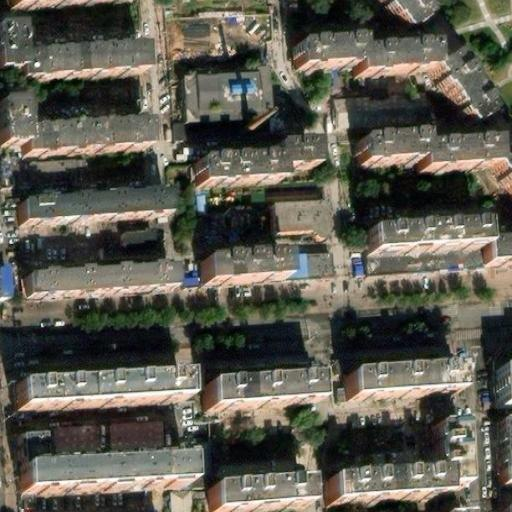building: (18, 466, 185, 511), (13, 379, 180, 414), (21, 258, 167, 294), (428, 59, 491, 134), (9, 185, 163, 215), (327, 470, 437, 508), (174, 58, 264, 104), (365, 228, 483, 262), (337, 372, 451, 405), (331, 94, 431, 131), (205, 384, 308, 415), (207, 484, 304, 512), (416, 143, 490, 179), (199, 159, 278, 191), (354, 46, 424, 80), (199, 259, 278, 289), (296, 39, 356, 74), (267, 189, 322, 227), (358, 137, 417, 171), (104, 419, 162, 452), (47, 423, 103, 457), (15, 0, 135, 14), (382, 0, 427, 37), (433, 433, 459, 494), (280, 238, 324, 267), (276, 144, 315, 175), (482, 239, 512, 270), (9, 442, 32, 480), (498, 422, 512, 484), (496, 374, 512, 423), (496, 160, 512, 202), (0, 264, 14, 299), (500, 499, 512, 512)
